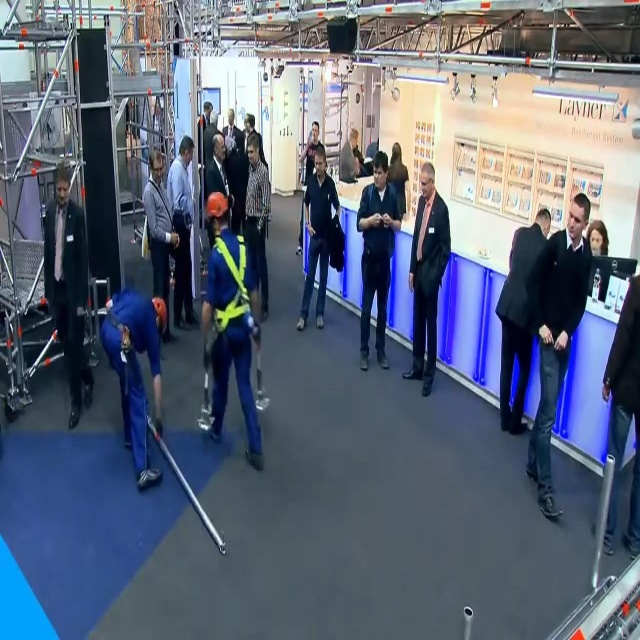Arnes_seguridad: (213, 235, 250, 330)
